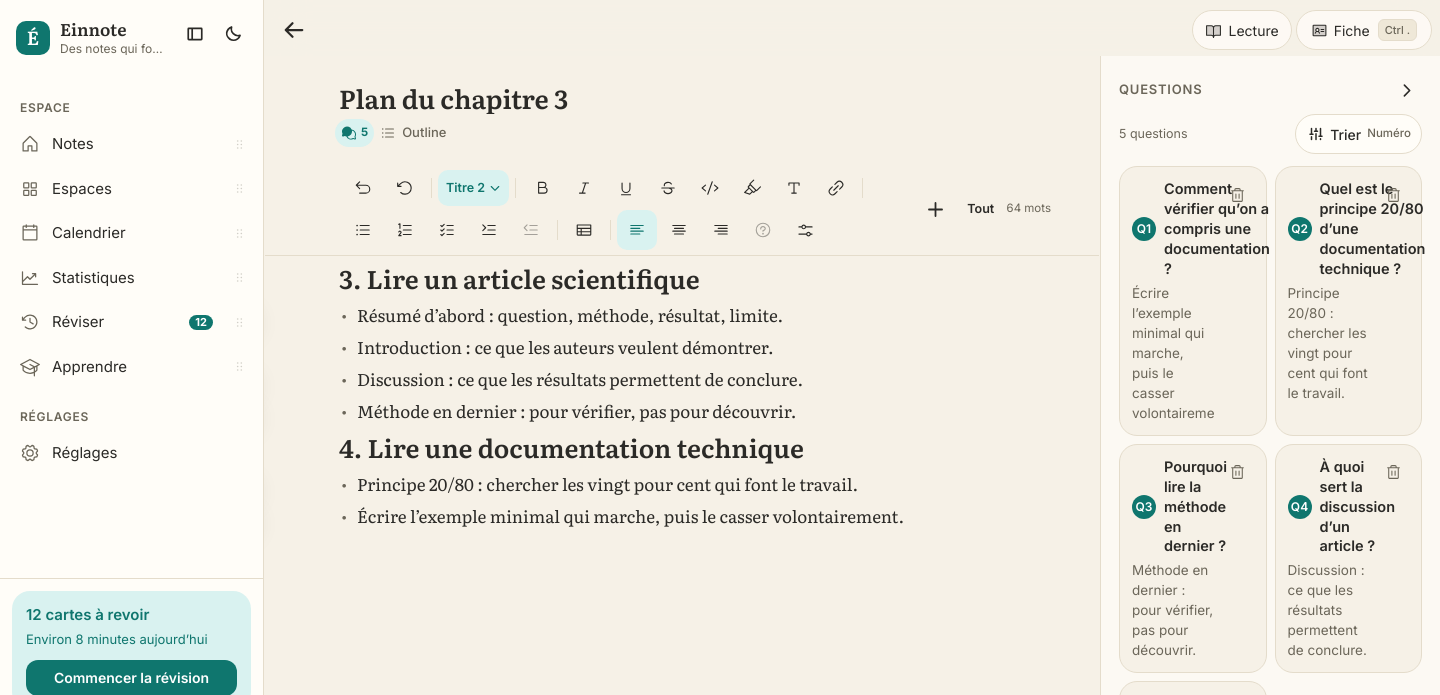
it: Palette de commandes › filtre sans accent, et exécute ce qu’on choisit
Click the text box named "Contenu de la note" at (622, 394), box [339, 259, 904, 528]
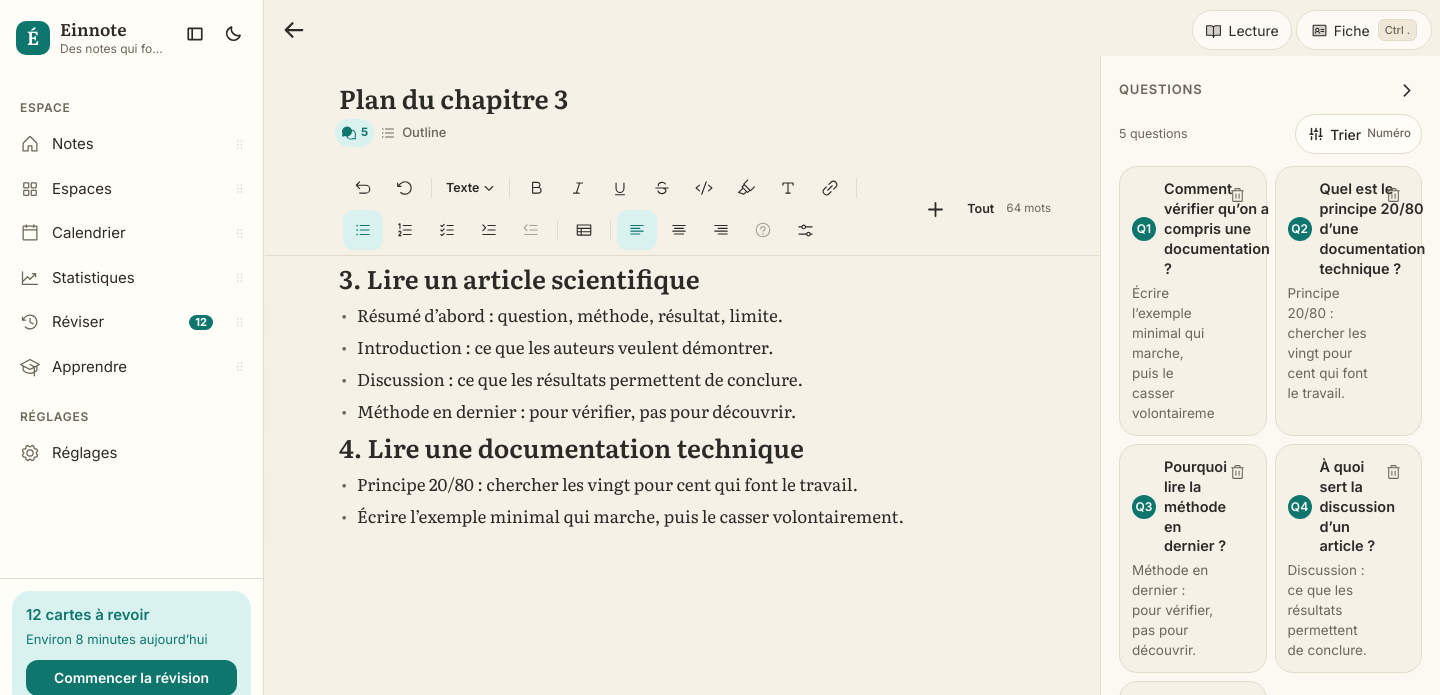
Type keys "{Control>}k{/Control}"
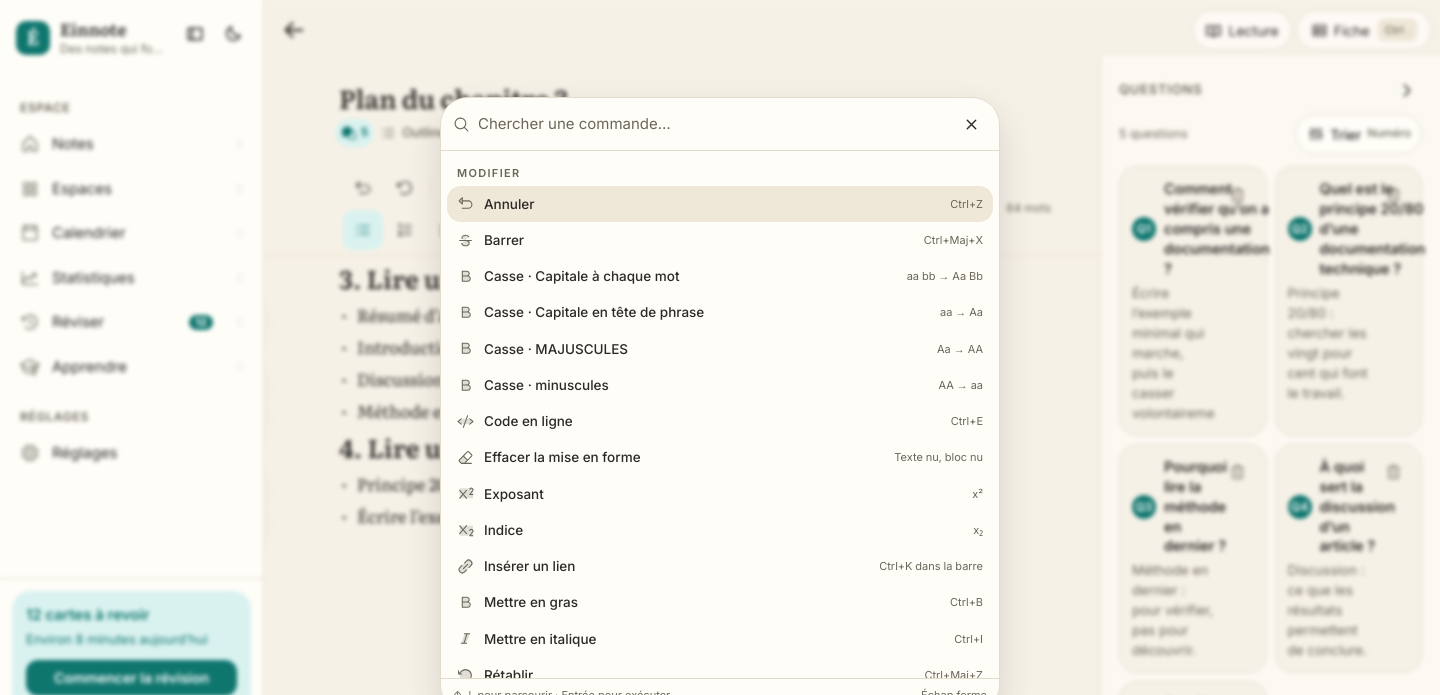
Type "puces" into the field labelled "Chercher une commande" at (712, 124), box [478, 113, 947, 136]
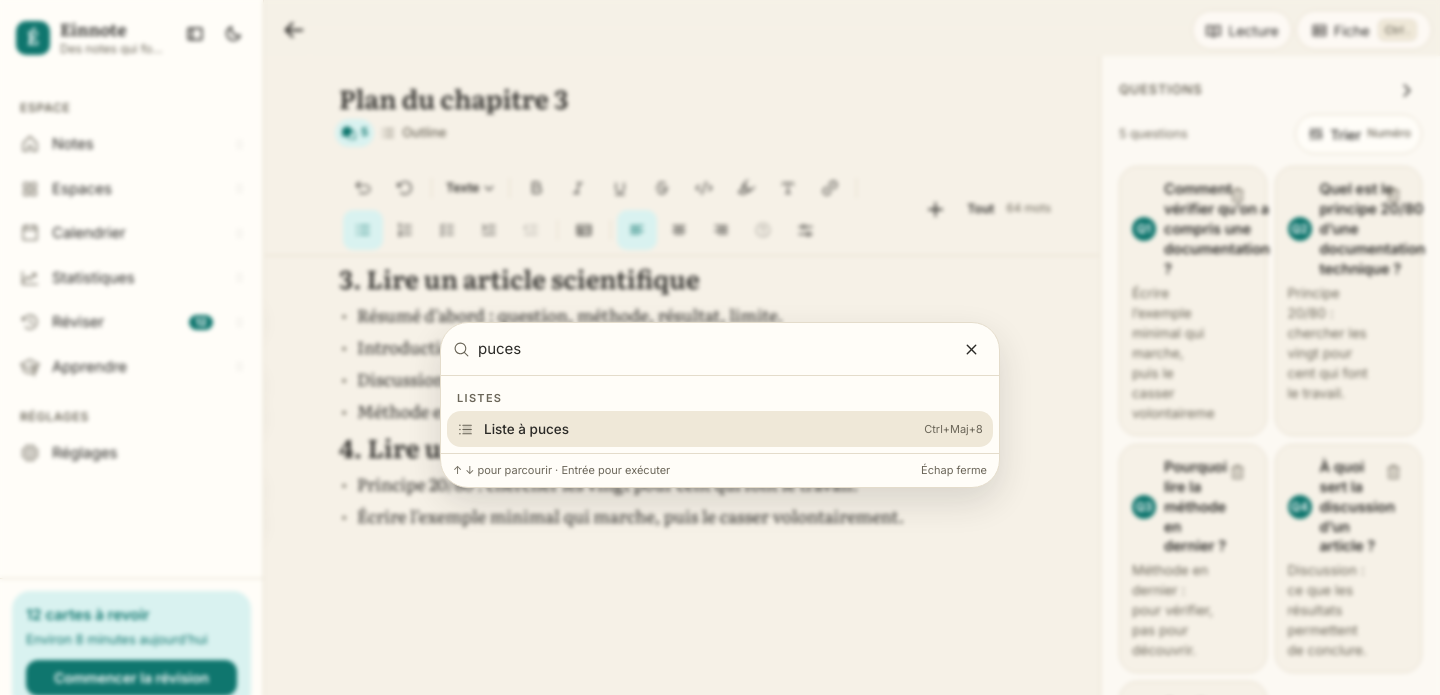
Click the option "Liste à puces Ctrl+Maj+8" at (527, 429), box [447, 411, 993, 447]
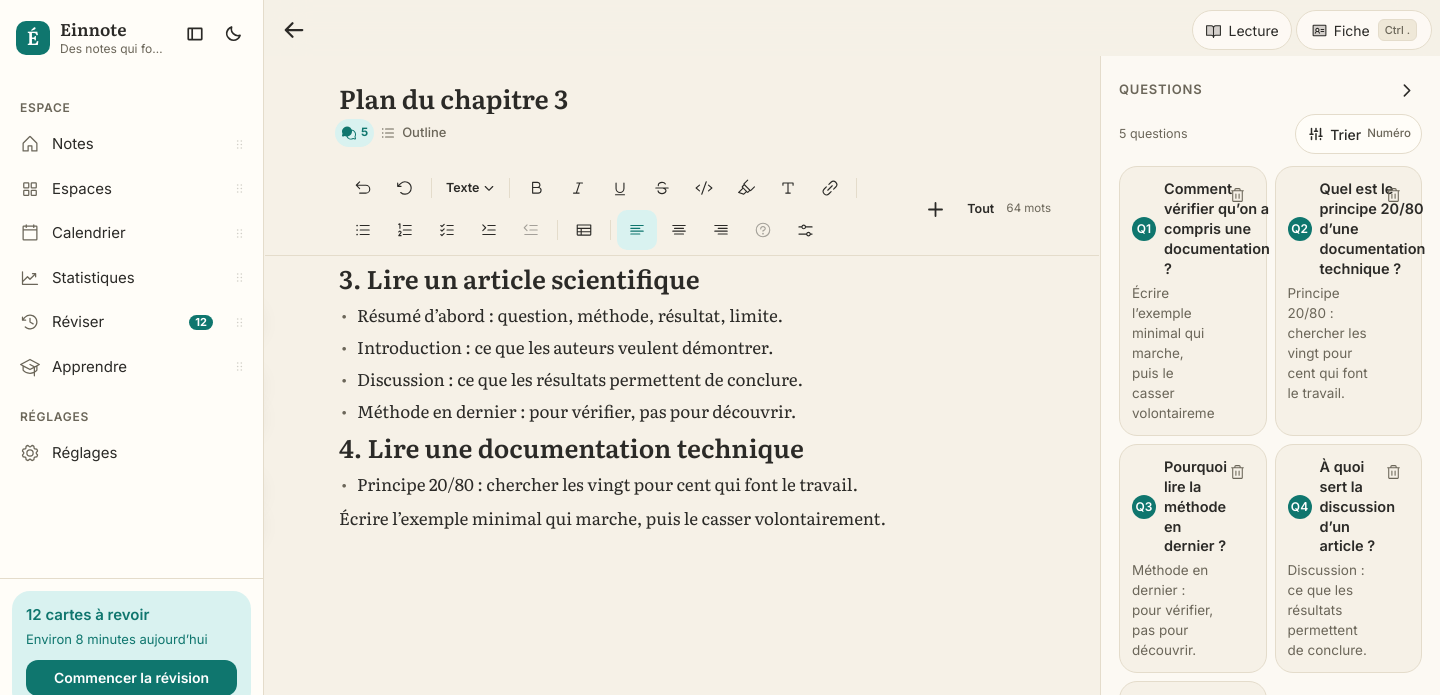
Result: the list "Palette de commandes" is gone
